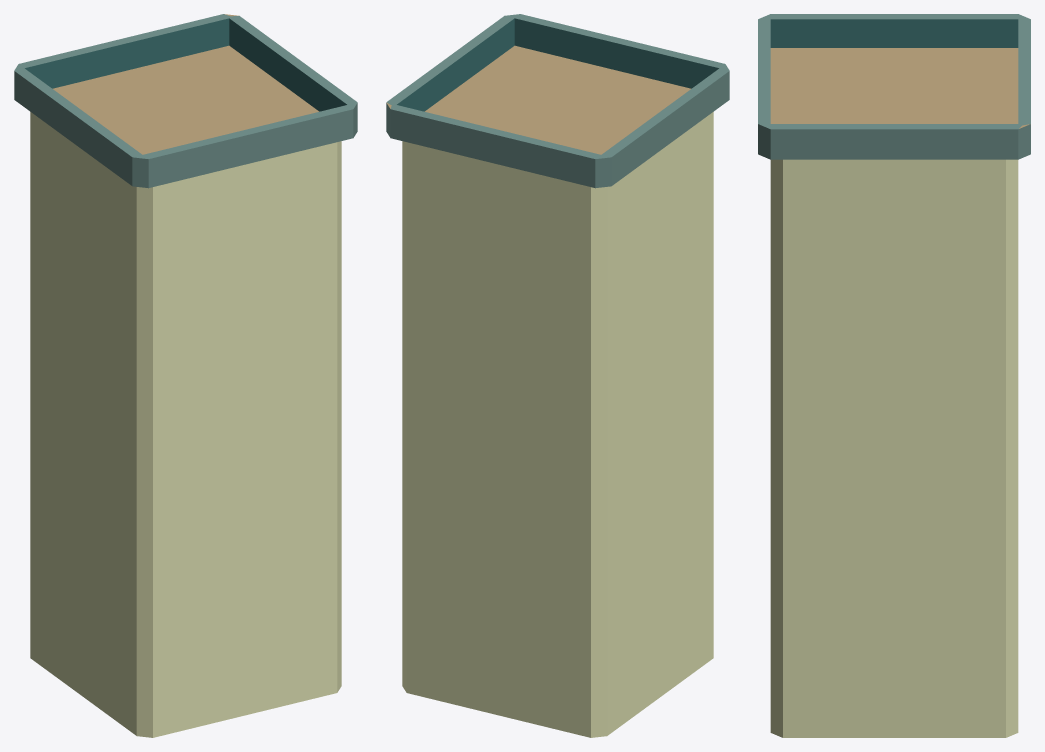
Rendered from Chimenea.fbx.
The picture shows the model from 3 angles, left to right: view 1: azimuth 30°, elevation 25°; view 2: azimuth 150°, elevation 25°; view 3: azimuth 270°, elevation 25°; orthographic projection. The views are drawn at different scales.
Parts seen in each view (by area): view 1: Cube.012; view 2: Cube.012; view 3: Cube.012.
Part boxes in pixels (bbox=[...]): Cube.012: bbox=[14, 14, 357, 737]; Cube.012: bbox=[386, 14, 729, 737]; Cube.012: bbox=[758, 14, 1030, 737].
Bounding box in the file's own units: 18.31 × 45.47 × 18.31.
